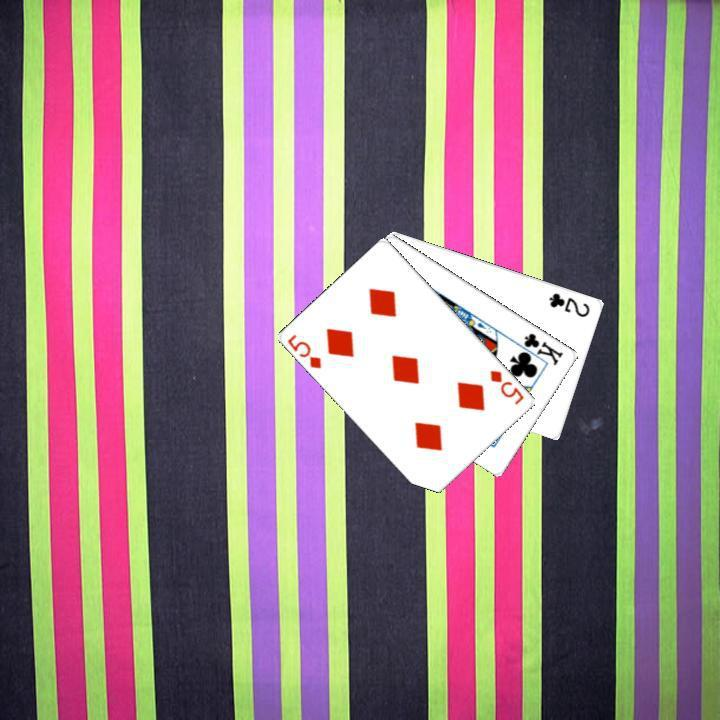2: (545, 288, 592, 319)
5: (283, 330, 324, 371), (486, 365, 526, 407)
K: (511, 328, 565, 367)
